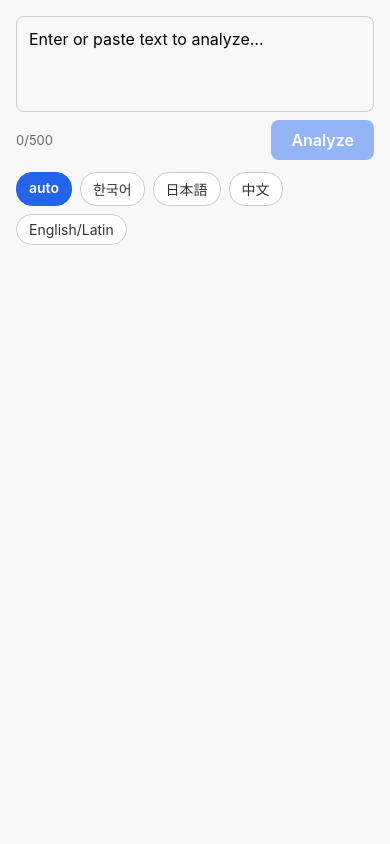
Scenario: HomeScreen submit flow › submits with Bearer token and renders the result
This screenshot has width=390, height=844.
Expected: the button "Analyze" is shown, [271,120,374,160]
Type "오늘 날씨가 정말 좋네요" into the text box labelled "text to analyze" at (195, 64), box [16,16,374,112]
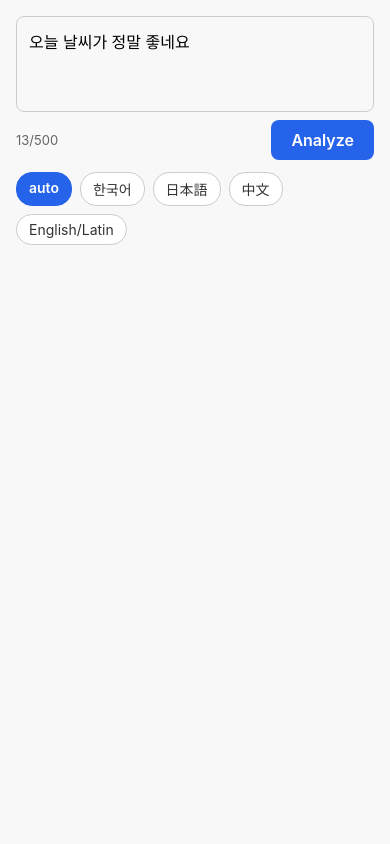
Click the button "Analyze" at (323, 140), box [271,120,374,160]
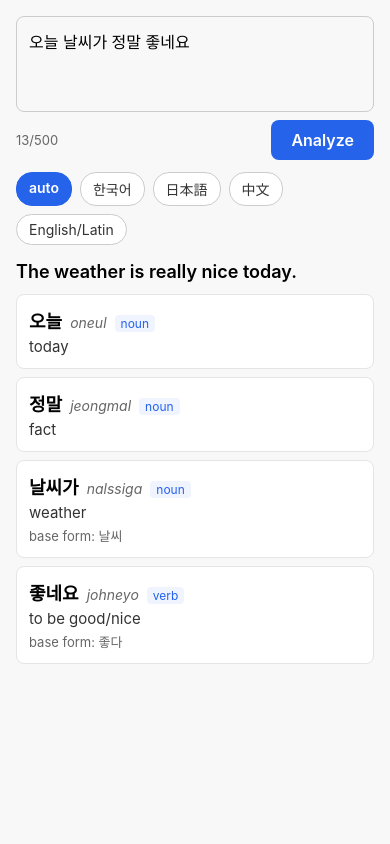
Result: the heading "The weather is really nice today." is shown at [16,261,297,282]
